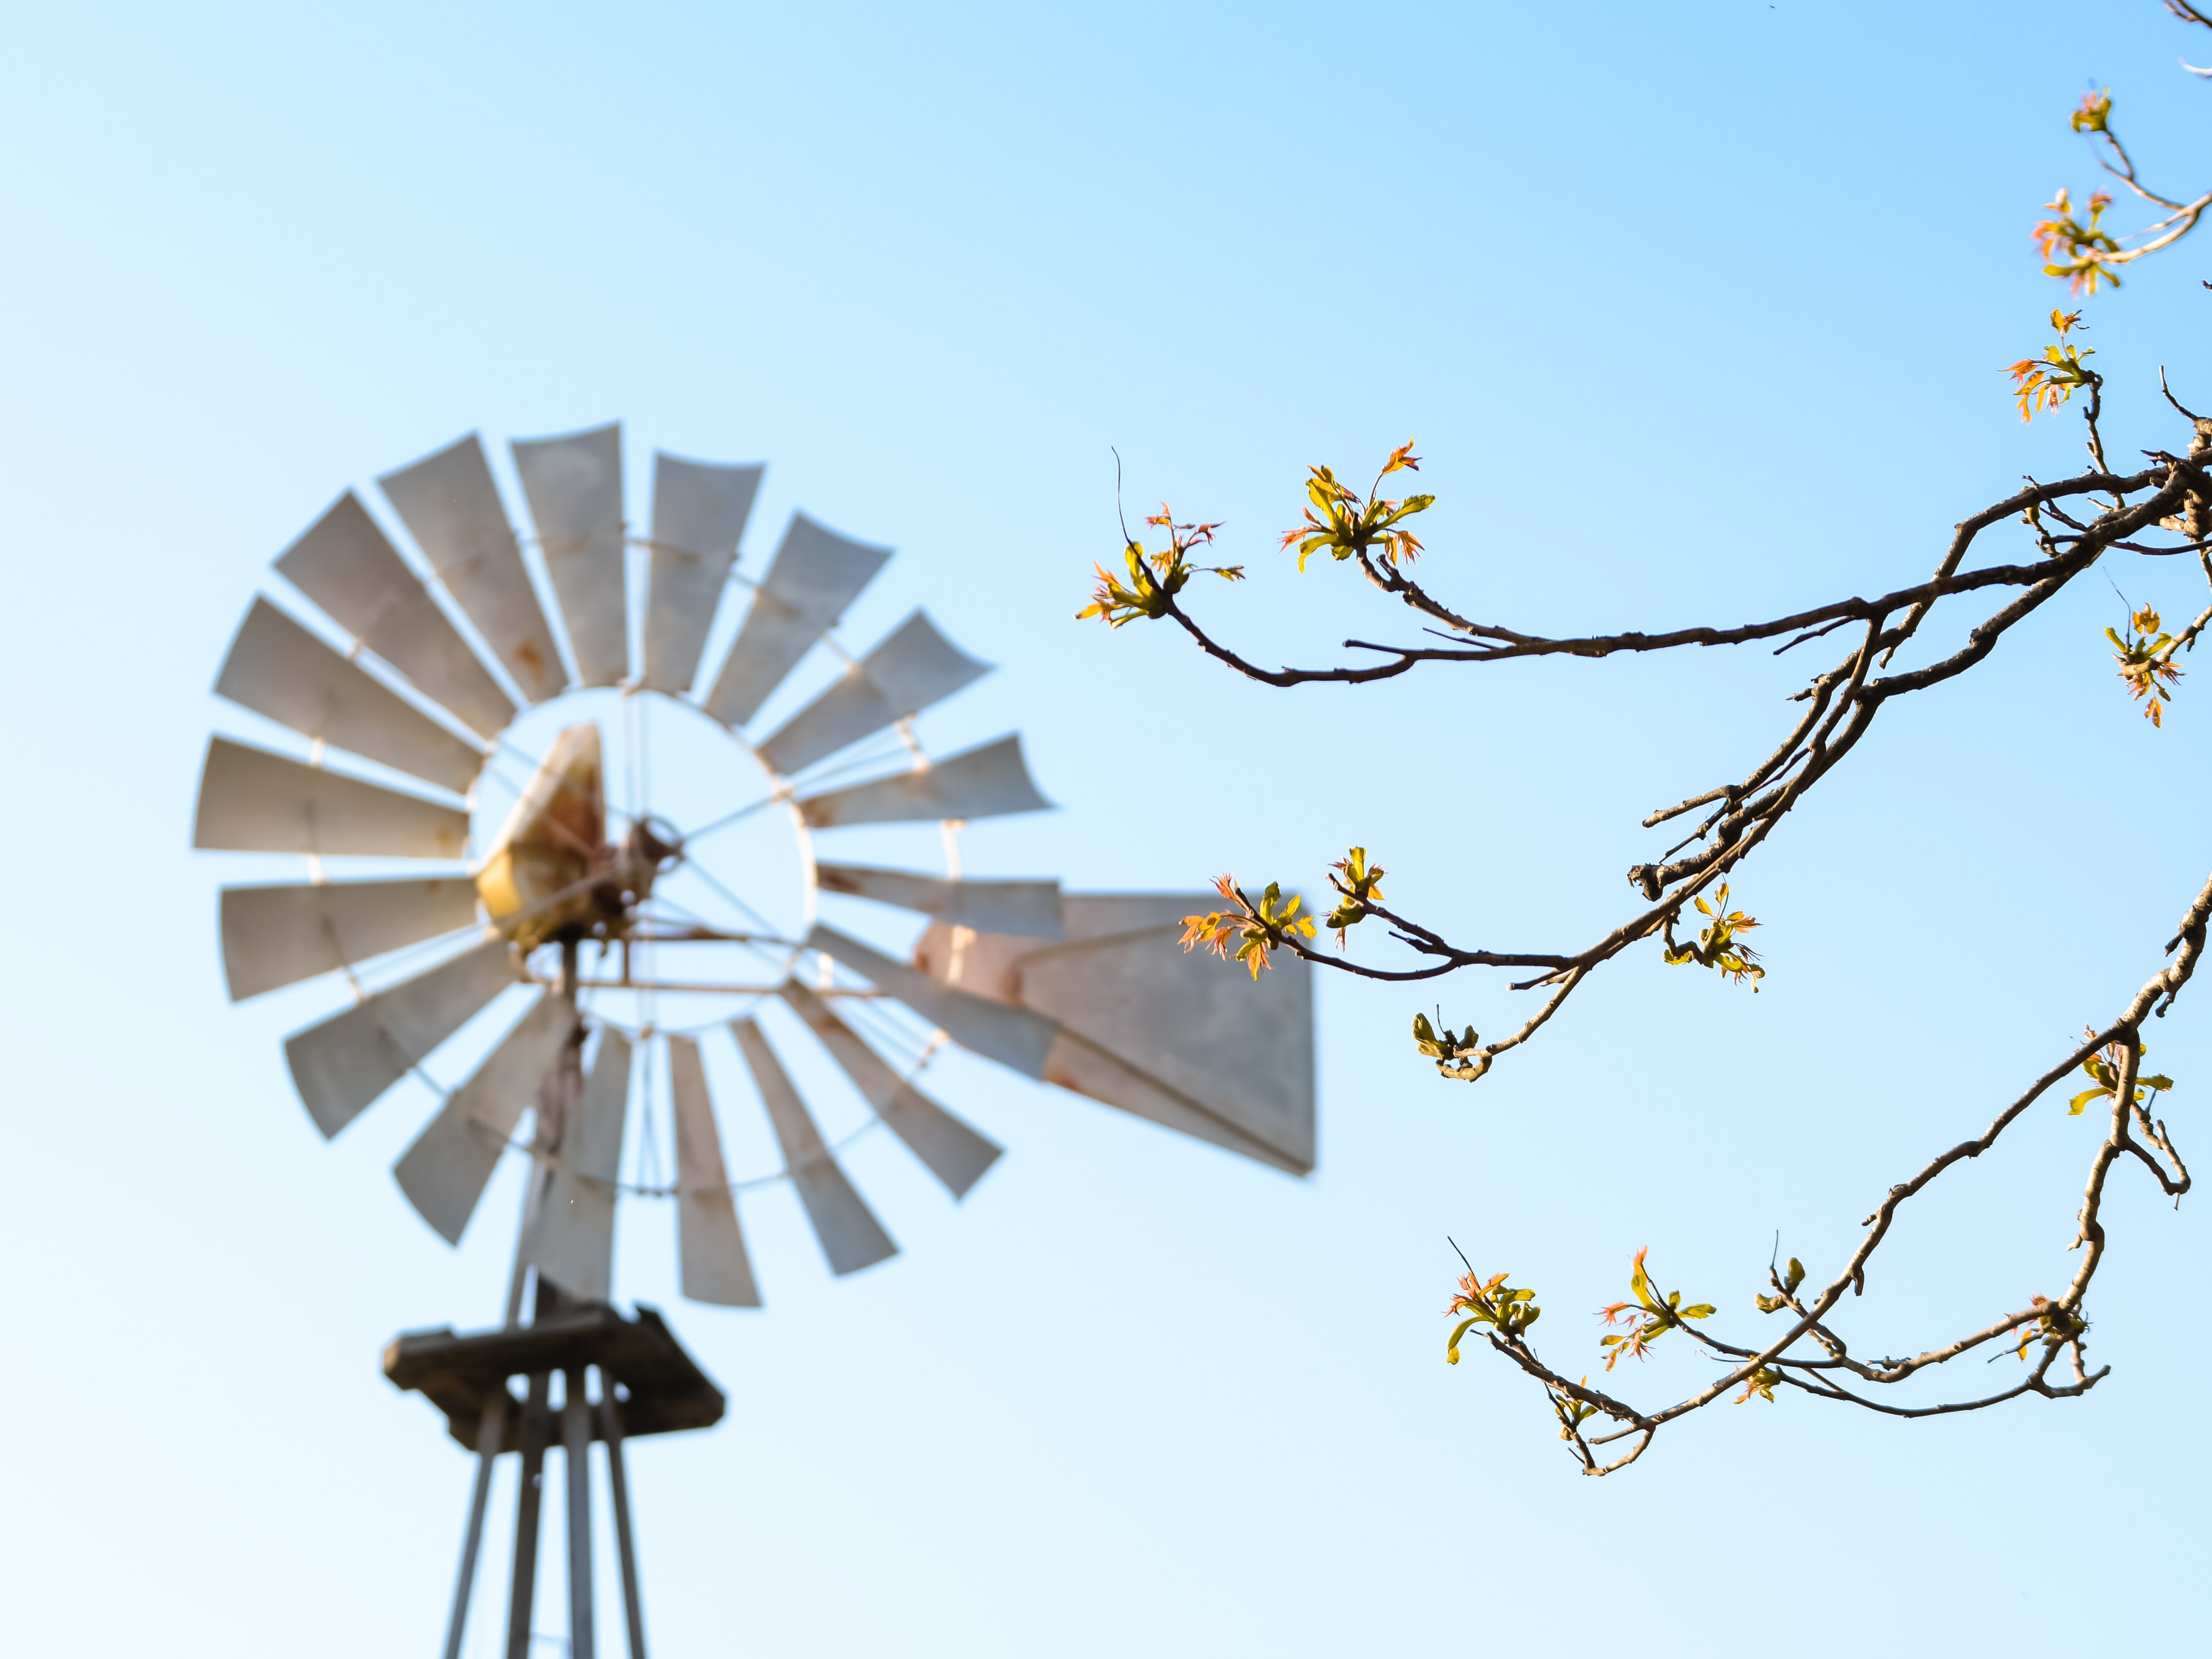working: (183, 418, 1080, 1392)
